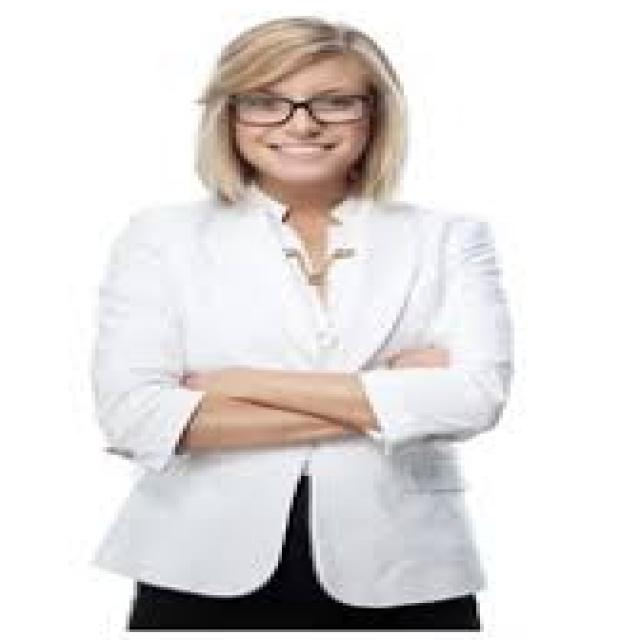Glasses: (200, 83, 376, 134)
